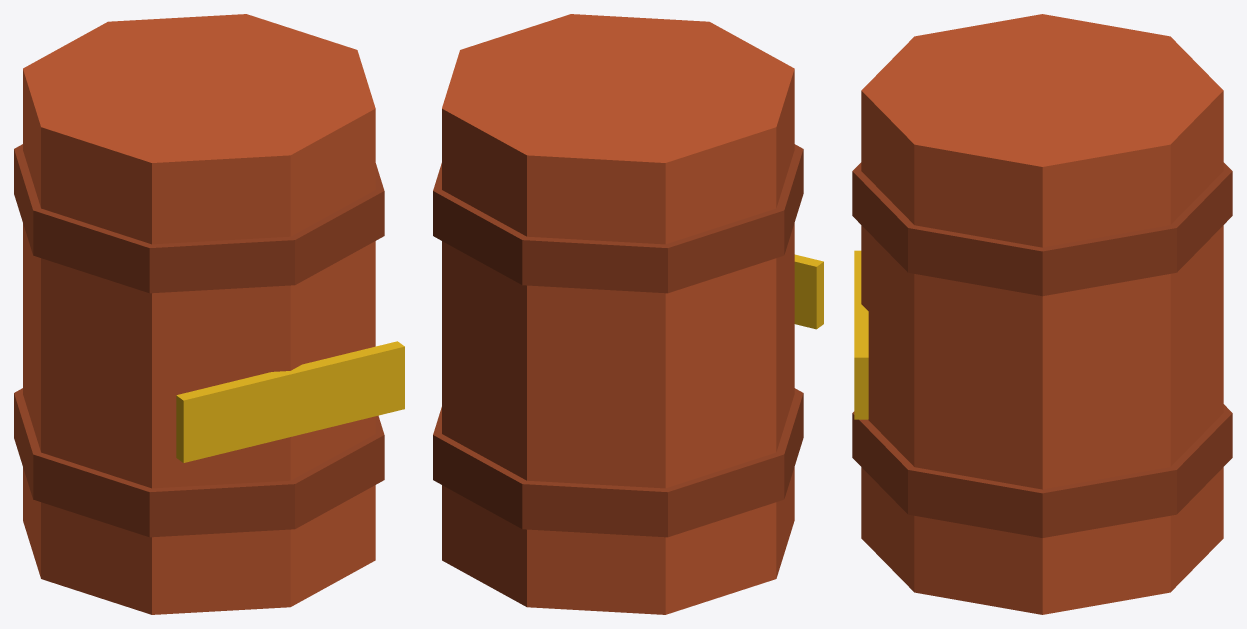
Rendered from env_r7_oil_barrel.glb.
3 views of the same model, side by side, from view 1: azimuth 30°, elevation 25°; view 2: azimuth 150°, elevation 25°; view 3: azimuth 270°, elevation 25° (orthographic).
Parts seen in each view (by area): view 1: env_r7_oil_barrel; view 2: env_r7_oil_barrel; view 3: env_r7_oil_barrel.
Part boxes in pixels (x1,y1,x2,y2): env_r7_oil_barrel: (14,14,404,614); env_r7_oil_barrel: (433,14,823,614); env_r7_oil_barrel: (852,14,1232,614).
Size of the model in its own units: 1 by 1.3 by 1.
1 material, 1 textured.
